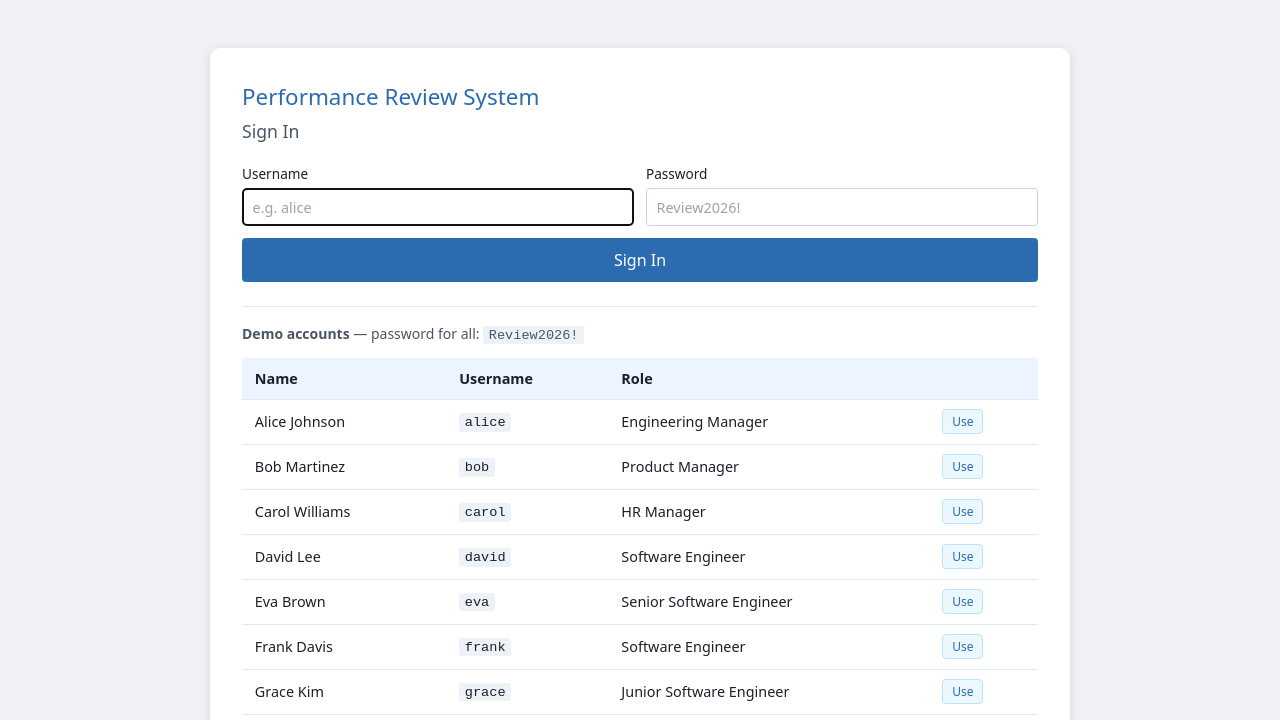
Test: App › shows app header and navigation after successful login
Type "alice" into the field with placeholder "e.g. alice".
click(438, 207); type("alice")  # box [242,188,634,226]
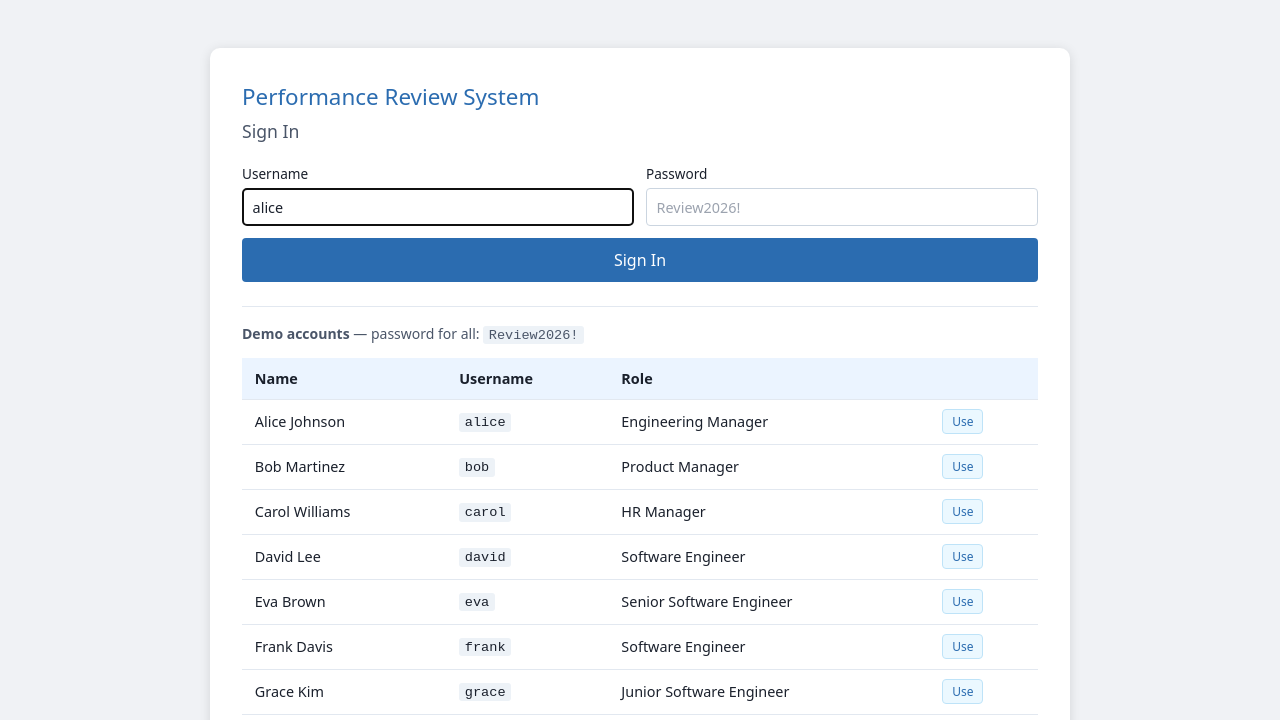
Type "Review2026!" into the password field with placeholder "Review2026!".
click(842, 207); type("Review2026!")  # box [646,188,1038,226]
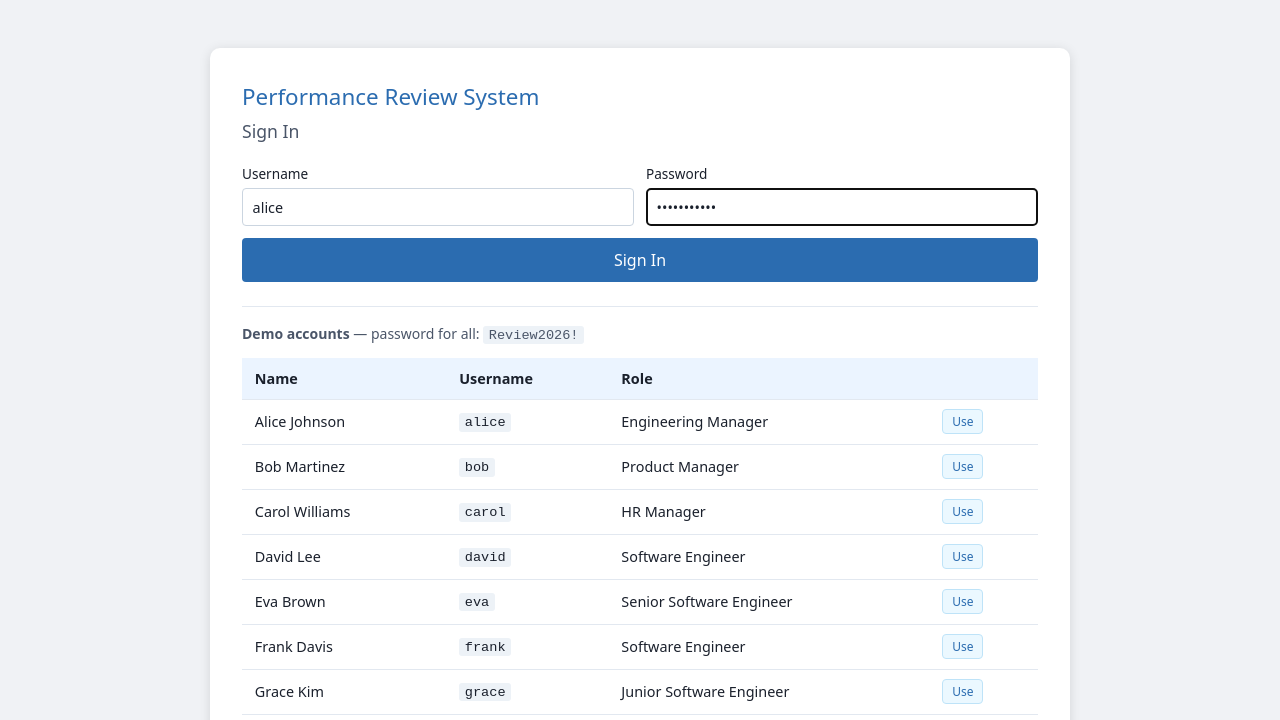
Click the button "Sign In".
click(640, 260)  # box [242,238,1038,282]
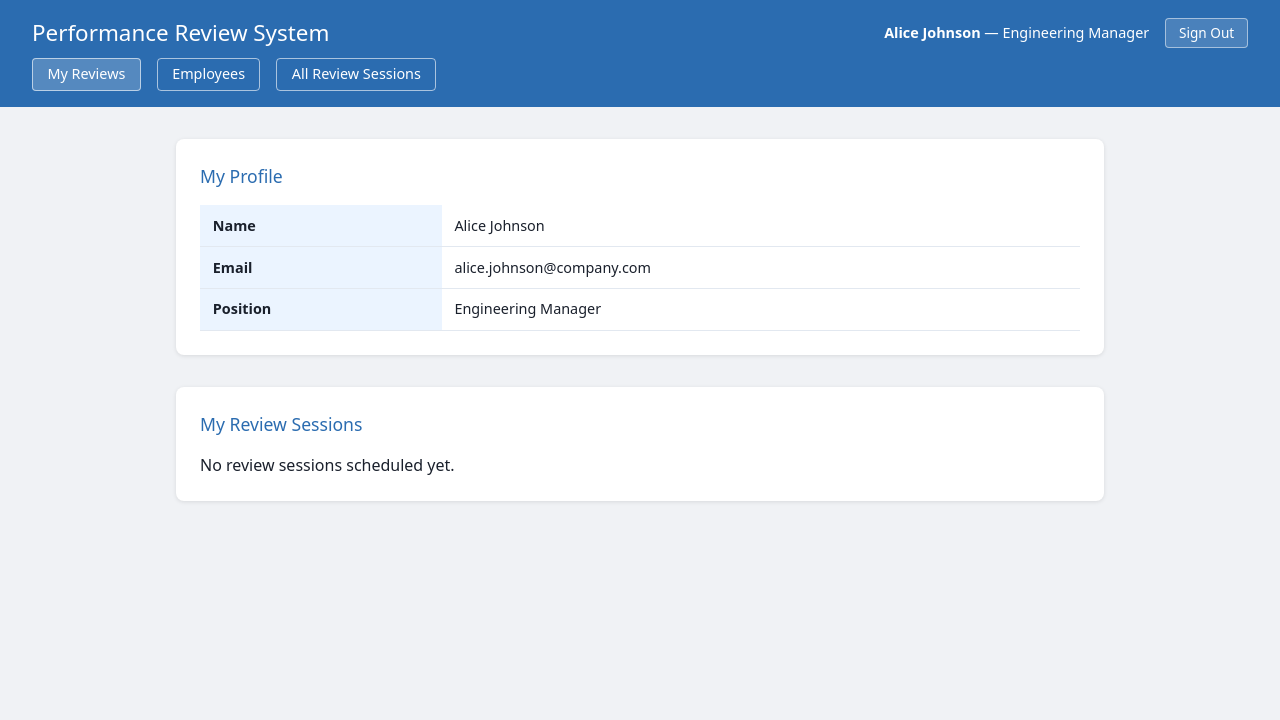
expect the button "Sign Out" is shown: met, box [1165,18,1248,48]
expect the text "Alice Johnson" is shown: met, box [884,23,981,42]
expect the button "My Reviews" is shown: met, box [32,58,141,91]
